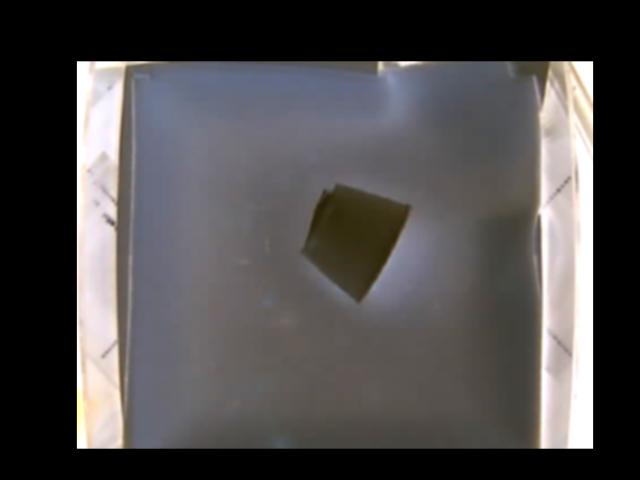Cup: (304, 183, 412, 307)
